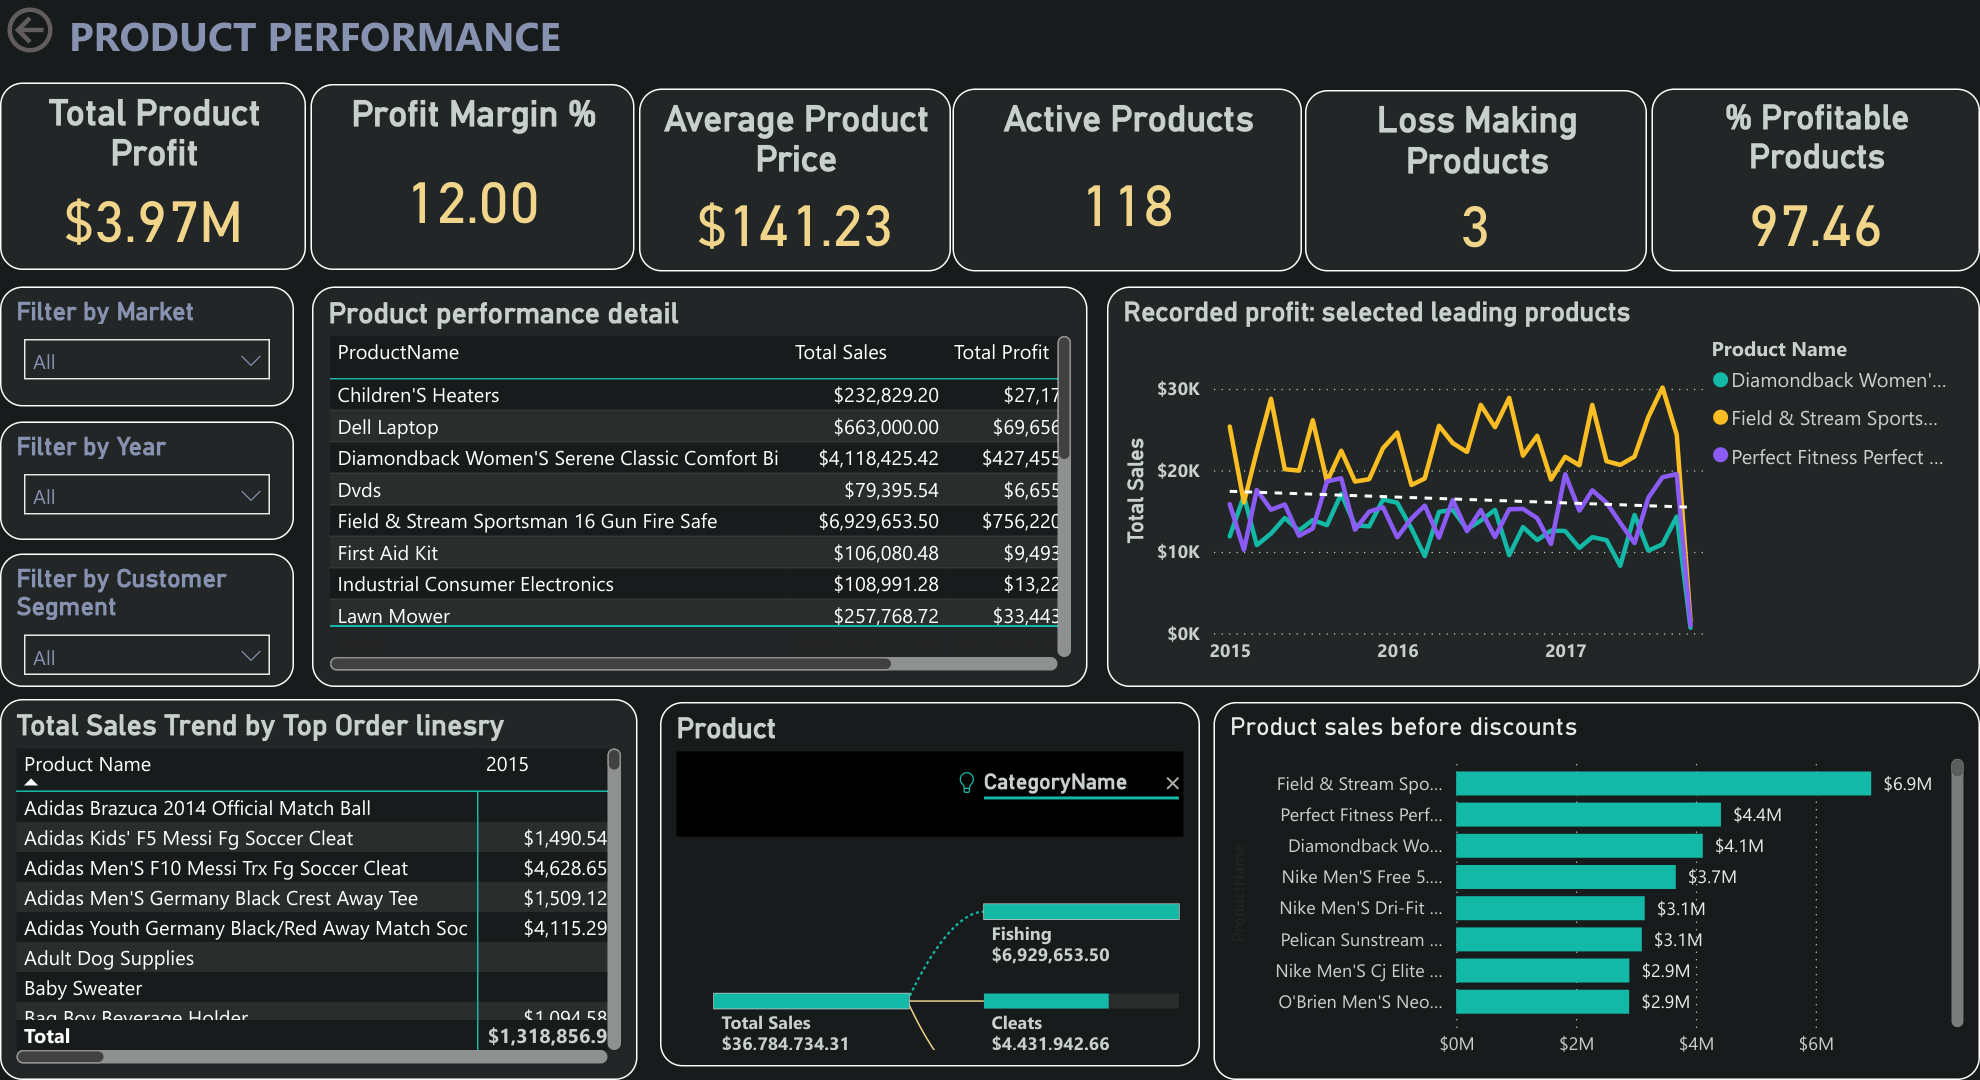

This screenshot's page, from the dashboard's own definition file:
{"tool":"powerbi","page":{"name":"Product Performance","canvas":[1320,720],"ordinal":4},"visuals":[{"type":"card","title":"Total Product Profit","fields":{"Values":["FactOrderItem.Total Profit"]},"box":[0,55.5,203.6,124.5],"z":0},{"type":"card","title":"Profit Margin %","fields":{"Values":["FactOrderItem.Profit Margin %"]},"box":[207.1,55.7,215.7,124.3],"z":1000},{"type":"card","title":"Average Product Price","fields":{"Values":["DimProduct.Avg Product Price"]},"box":[426.2,58.8,207.5,122.5],"z":2000},{"type":"tableEx","title":"Product performance detail","fields":{"Values":["DimProduct.ProductName","FactOrderItem.Total Sales","FactOrderItem.Total Profit","DimProduct.Product Margin %"]},"box":[207.5,191.2,517.5,266.2],"z":3000},{"type":"decompositionTreeVisual","title":"Product","fields":{"Analyze":["FactOrderItem.Total Sales"],"ExplainBy":["DimProduct.CategoryName","DimProduct.ProductName"]},"box":[440,467.5,360,243.8],"z":4000},{"type":"pivotTable","title":"Total Sales Trend by Top Order linesry","fields":{"Rows":["DimProduct.ProductName"],"Values":["FactOrderItem.Total Profit"],"Columns":["DimDate.Year"]},"box":[0,465.6,425.4,254.6],"z":5000},{"type":"textbox","box":[41.2,0,351.2,46.2],"z":6000},{"type":"slicer","title":"Filter by Market","fields":{"Values":["DimLocation.Market"]},"box":[0,191.2,196.2,80],"z":7000},{"type":"slicer","title":"Filter by Year","fields":{"Values":["DimDate.Year"]},"box":[0,281.2,196.2,78.8],"z":8000},{"type":"slicer","title":"Filter by Customer Segment","fields":{"Values":["DimCustomer.CustomerSegment"]},"box":[0,368.8,196.2,88.8],"z":9000},{"type":"card","title":"Loss Making Products","fields":{"Values":["DimProduct.Loss-Making Products"]},"box":[870,60,227.5,121.2],"z":10000},{"type":"card","title":"Active Products","fields":{"Values":["DimProduct.Active Products"]},"box":[635,58.8,232.5,122.5],"z":11000},{"type":"card","title":"% Profitable Products","fields":{"Values":["DimProduct.% Profitable Products"]},"box":[1101.2,58.8,218.8,122.5],"z":12000},{"type":"actionButton","box":[0,0,100,40],"z":13000},{"type":"clusteredBarChart","title":"Product sales before discounts","fields":{"Category":["DimProduct.ProductName"],"Y":["FactOrderItem.Total Sales"]},"box":[808.8,467.5,511.2,252.5],"z":14000},{"type":"lineChart","title":"Recorded profit: selected leading products","fields":{"Category":["DimDate.MonthYear"],"Series":["DimProduct.ProductName"],"Y":["FactOrderItem.Total Profit"]},"box":[737.5,191.2,582.5,266.2],"z":15000}]}

Visuals, with their boxes in screenshot pixels (x1, y1, x2, y2), scaled from the page's 1320x720 canvas onto the 1980x1080 screenshot:
"Total Product Profit" card: bbox(0, 83, 305, 270)
"Profit Margin %" card: bbox(311, 84, 634, 270)
"Average Product Price" card: bbox(639, 88, 951, 272)
"Product performance detail" tableEx: bbox(311, 287, 1088, 686)
"Product" decompositionTreeVisual: bbox(660, 701, 1200, 1067)
"Total Sales Trend by Top Order linesry" pivotTable: bbox(0, 698, 638, 1079)
textbox: bbox(62, 0, 589, 69)
"Filter by Market" slicer: bbox(0, 287, 294, 407)
"Filter by Year" slicer: bbox(0, 422, 294, 540)
"Filter by Customer Segment" slicer: bbox(0, 553, 294, 686)
"Loss Making Products" card: bbox(1305, 90, 1646, 272)
"Active Products" card: bbox(952, 88, 1301, 272)
"% Profitable Products" card: bbox(1652, 88, 1979, 272)
actionButton: bbox(0, 0, 150, 60)
"Product sales before discounts" clusteredBarChart: bbox(1213, 701, 1979, 1079)
"Recorded profit: selected leading products" lineChart: bbox(1106, 287, 1979, 686)
